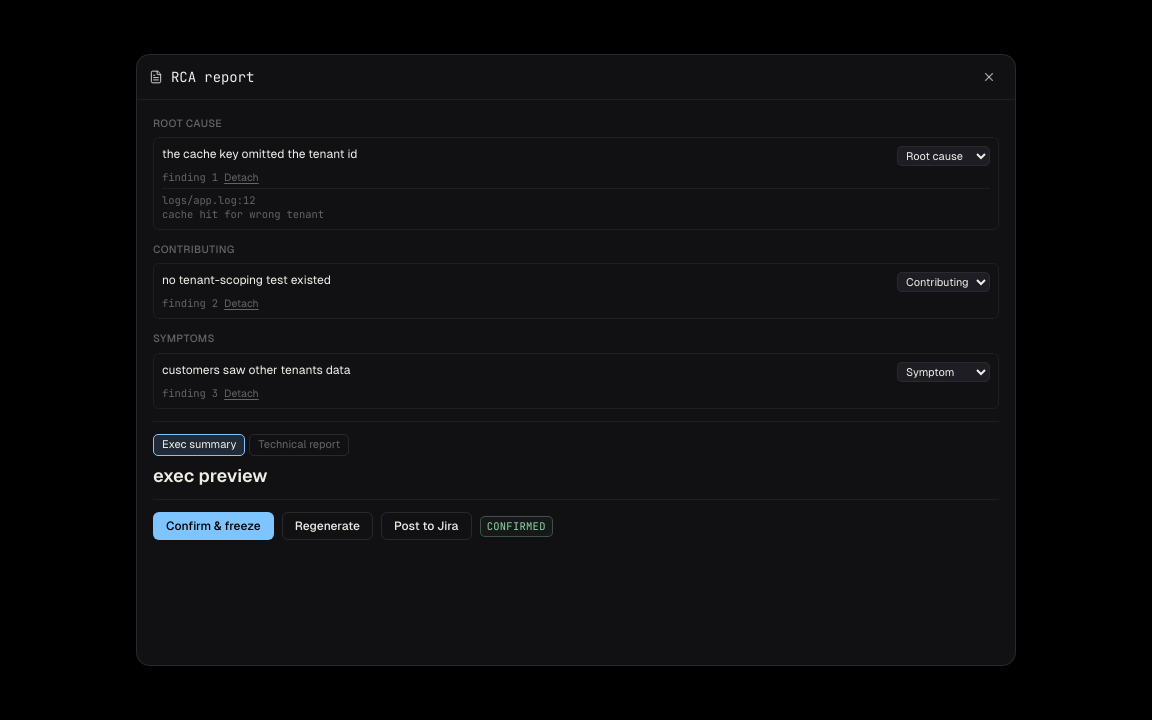
RcaPanel › post button opens confirm dialog naming targets; partial failure renders retry
Click the button "Post to Jira" at (426, 526), box top-left (381, 512), bottom-right (472, 540)
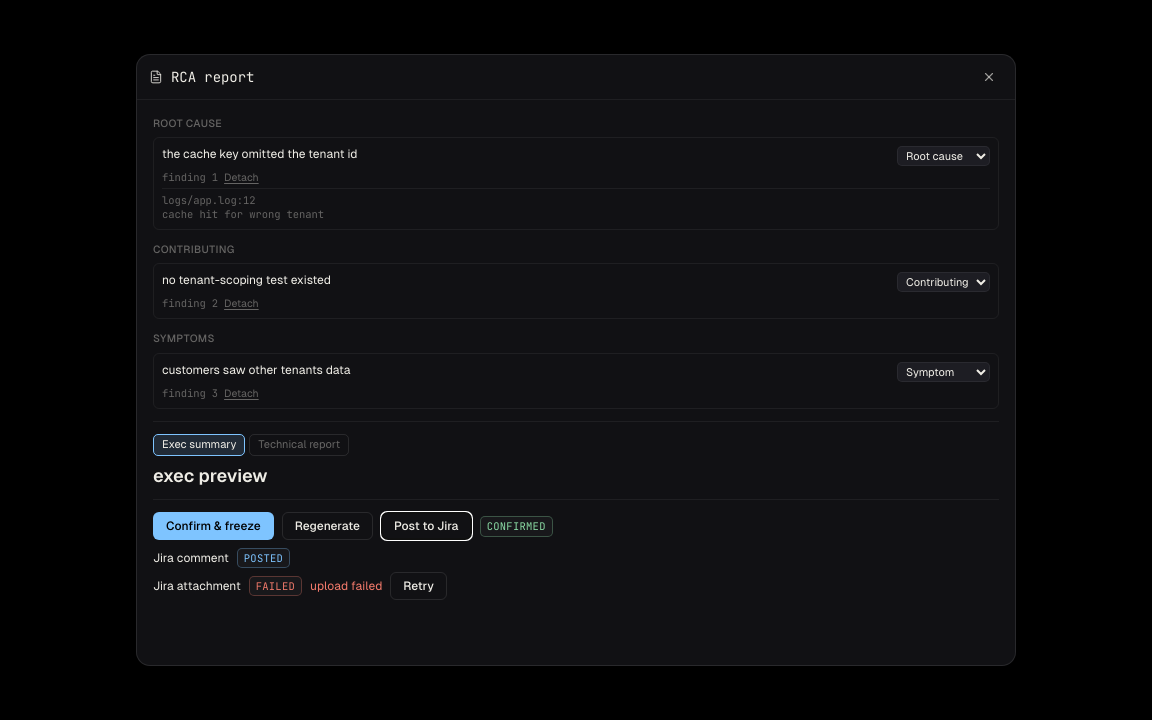
Check: the text "upload failed" is shown, box top-left (310, 578), bottom-right (382, 594)
Check: the button with aria-label "retry jira attachment" is shown, box top-left (390, 572), bottom-right (447, 600)
